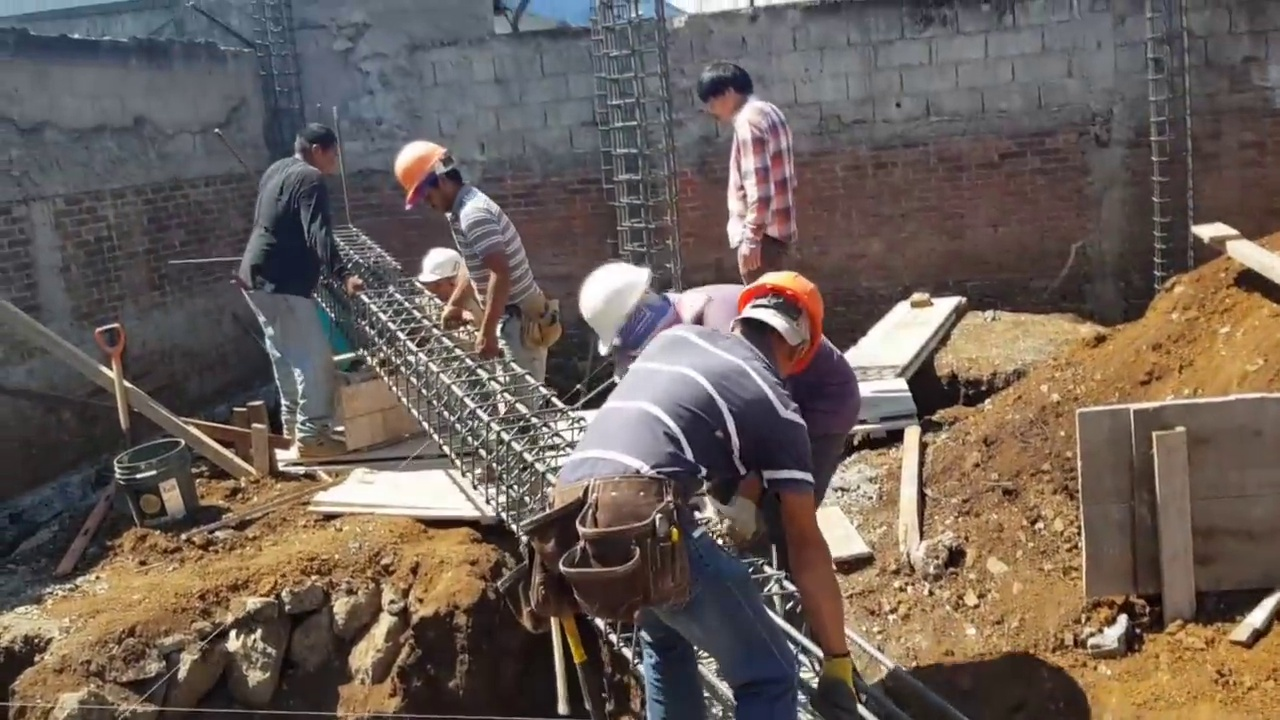helmet: (731, 269, 826, 375), (581, 259, 653, 351), (395, 141, 459, 208), (420, 249, 465, 284)
helmet-off: (698, 62, 758, 124), (292, 121, 339, 177)
helmet-on: (579, 256, 684, 369), (722, 270, 825, 385), (391, 142, 471, 226), (416, 243, 468, 307)
person: (558, 271, 883, 697), (580, 257, 861, 489), (237, 109, 356, 469), (391, 142, 555, 386), (682, 59, 792, 299), (414, 242, 484, 338)
